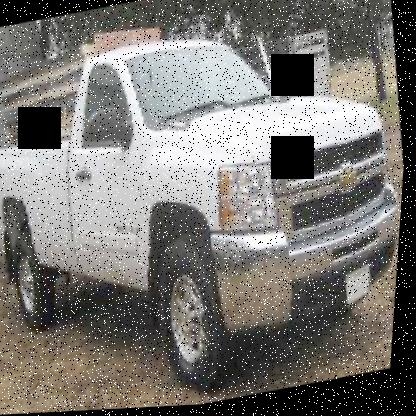not_emergency: (0, 0, 414, 392)
